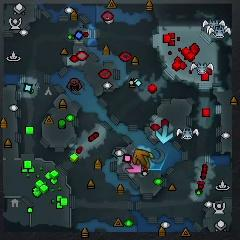x1: (126, 160, 141, 173)
x2: (143, 150, 153, 166)
x3: (157, 126, 175, 144)
x5: (134, 150, 149, 166)
